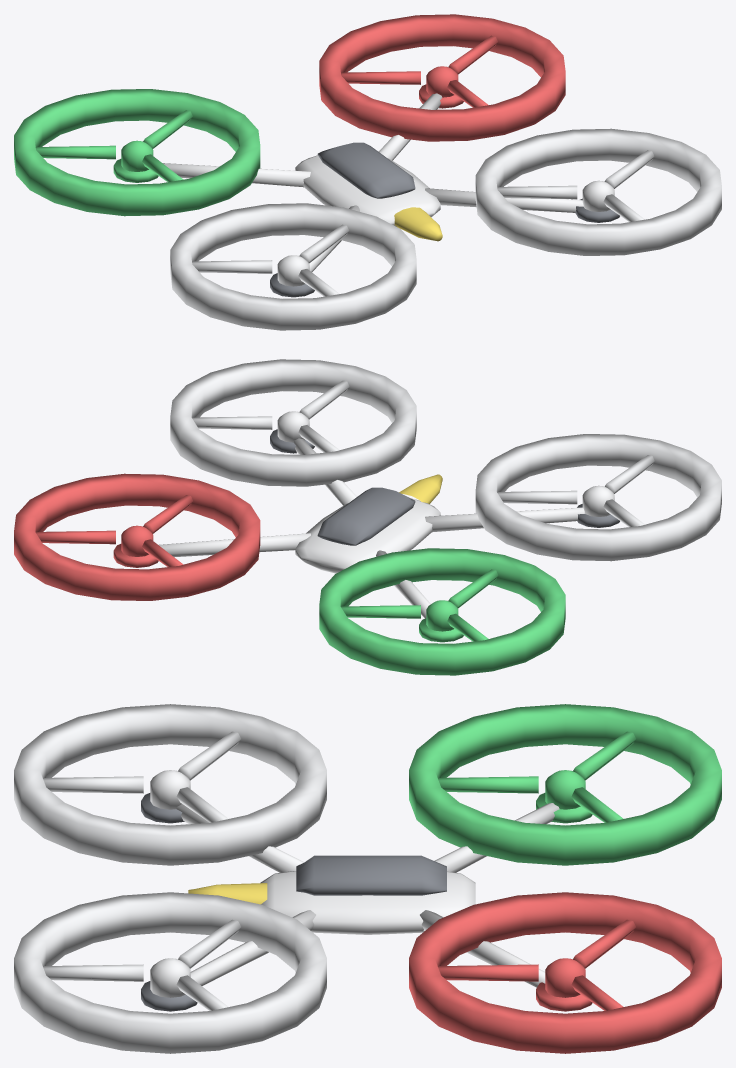
Rendered from uav-quad.glb.
3 views of the same model, one above another, from view 1: azimuth 30°, elevation 25°; view 2: azimuth 150°, elevation 25°; view 3: azimuth 270°, elevation 25° (orthographic). The views are drawn at different scales.
Parts seen in each view (by area): view 1: part3, part0, part2, part4, part1, part5; view 2: part3, part2, part0, part4, part1, part5; view 3: part3, part2, part0, part4, part1, part5.
Part boxes in pixels (left/top/right/bottom): part3: left=170, top=128, right=721, bottom=330; part0: left=14, top=89, right=260, bottom=216; part2: left=319, top=14, right=565, bottom=141; part4: left=162, top=93, right=614, bottom=286; part1: left=270, top=142, right=619, bottom=297; part5: left=394, top=207, right=442, bottom=241; part3: left=170, top=359, right=721, bottom=561; part2: left=14, top=473, right=260, bottom=600; part0: left=319, top=548, right=565, bottom=675; part4: left=159, top=411, right=614, bottom=618; part1: left=270, top=429, right=619, bottom=545; part5: left=399, top=474, right=442, bottom=503; part3: left=14, top=704, right=326, bottom=1053; part2: left=409, top=892, right=721, bottom=1053; part0: left=409, top=704, right=721, bottom=865; part4: left=150, top=770, right=559, bottom=997; part1: left=141, top=793, right=446, bottom=1011; part5: left=188, top=883, right=267, bottom=904.
Bounding box in the file's own units: 1.81 × 0.1512 × 1.69.
